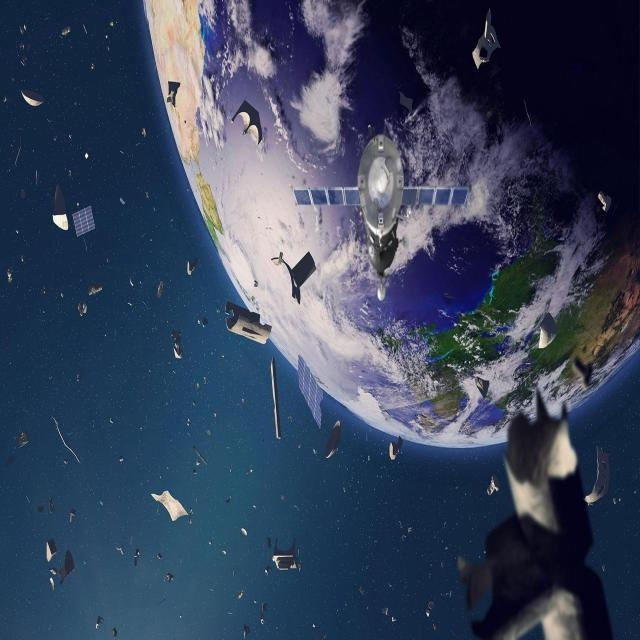large_debris: (522, 92, 534, 128), (398, 523, 411, 542), (381, 606, 395, 623), (47, 569, 57, 590), (14, 140, 22, 166), (258, 602, 266, 626), (19, 43, 26, 66), (425, 602, 435, 618), (81, 235, 88, 253), (116, 542, 124, 556), (6, 453, 14, 467), (19, 22, 27, 35), (140, 125, 148, 138), (200, 317, 208, 330), (141, 297, 148, 311), (166, 572, 174, 584), (158, 594, 166, 606), (237, 587, 244, 600), (105, 33, 110, 51), (188, 508, 193, 525), (113, 624, 118, 639), (225, 496, 233, 505), (81, 23, 87, 35), (37, 505, 44, 515), (35, 170, 40, 184), (118, 147, 125, 157), (76, 372, 82, 383), (21, 253, 27, 264), (129, 274, 134, 287), (294, 500, 299, 513), (108, 415, 114, 425), (40, 284, 45, 296), (127, 299, 133, 309), (267, 536, 272, 548), (46, 115, 52, 125), (319, 631, 326, 639), (359, 586, 366, 594), (246, 468, 253, 476), (311, 446, 318, 454), (387, 581, 394, 589), (109, 19, 114, 30), (280, 490, 285, 501), (600, 563, 605, 574), (67, 131, 73, 140), (186, 417, 191, 427), (287, 411, 292, 421), (141, 231, 146, 241), (209, 587, 216, 594), (119, 456, 125, 464), (202, 376, 208, 384), (59, 291, 65, 299), (432, 622, 437, 631), (298, 440, 303, 449), (613, 496, 618, 505), (3, 94, 7, 105), (22, 190, 26, 201), (157, 552, 162, 560), (26, 494, 30, 504), (193, 469, 198, 477), (228, 463, 232, 473), (252, 502, 257, 510), (68, 167, 72, 177), (120, 197, 124, 207), (145, 191, 149, 201), (208, 538, 212, 547), (90, 61, 94, 70), (135, 141, 141, 147), (43, 15, 49, 21), (221, 548, 226, 555), (195, 380, 199, 388), (64, 458, 68, 465), (206, 428, 210, 435), (192, 400, 196, 407), (618, 495, 622, 502), (228, 610, 233, 615), (195, 461, 200, 466), (53, 132, 56, 140), (139, 279, 142, 287), (634, 488, 638, 494)
